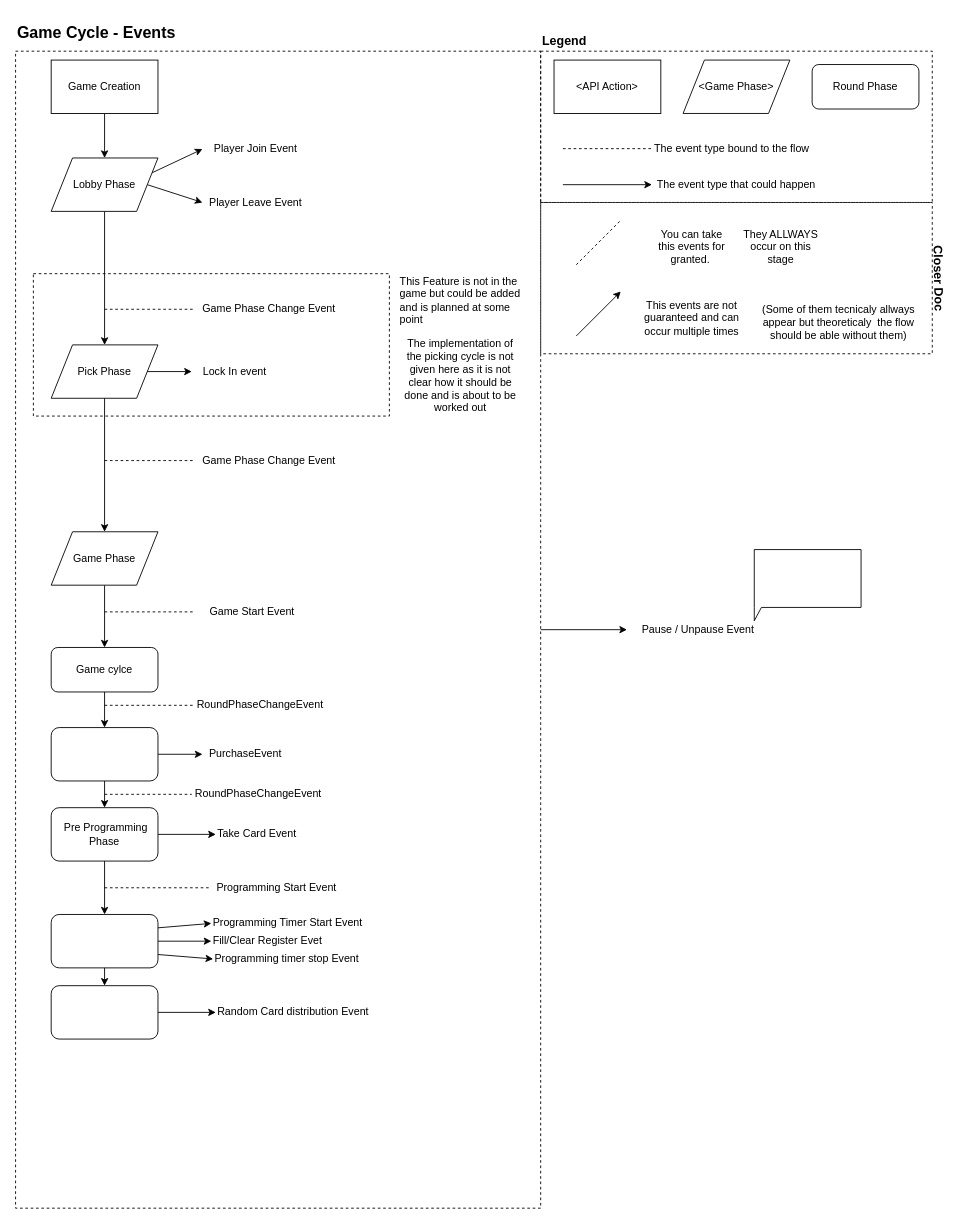
This 967x1224 diagram has some shape labels left out. Here are the shapes that lost their labels. From the top down, the centre of each, then its label:
At [807,585]: "This is allways possible to occur".
At [104,754]: "Upgradde Shop Phase".
At [104,941]: "Programming Phase".
At [104,1012]: "After Programming Phase".
